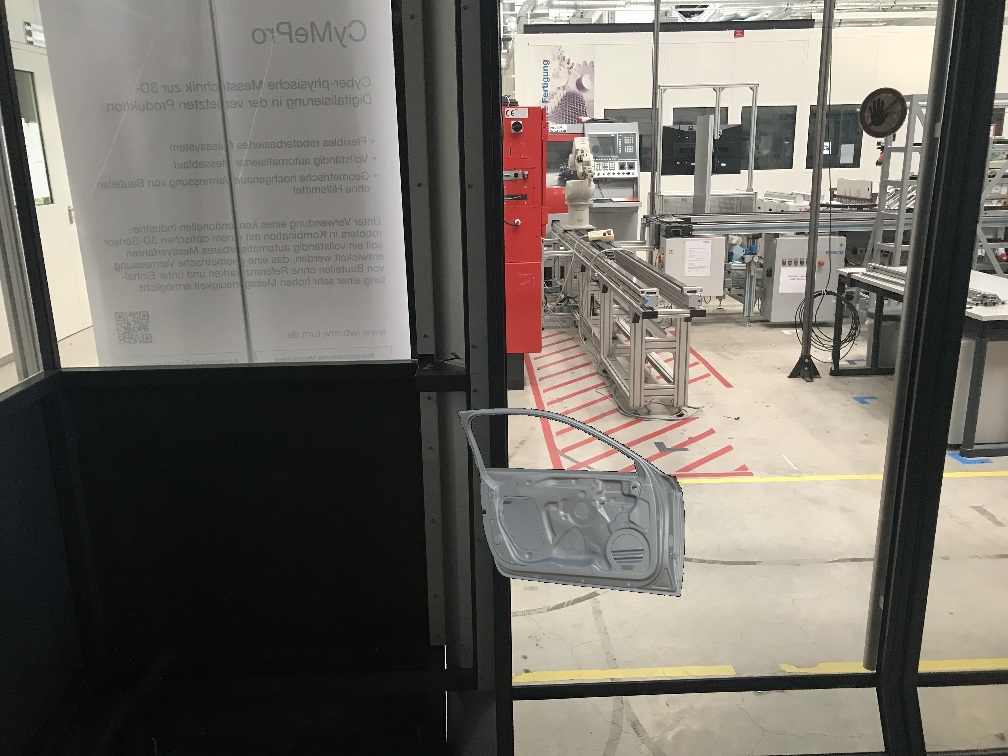car_door: (457, 408, 684, 596)
